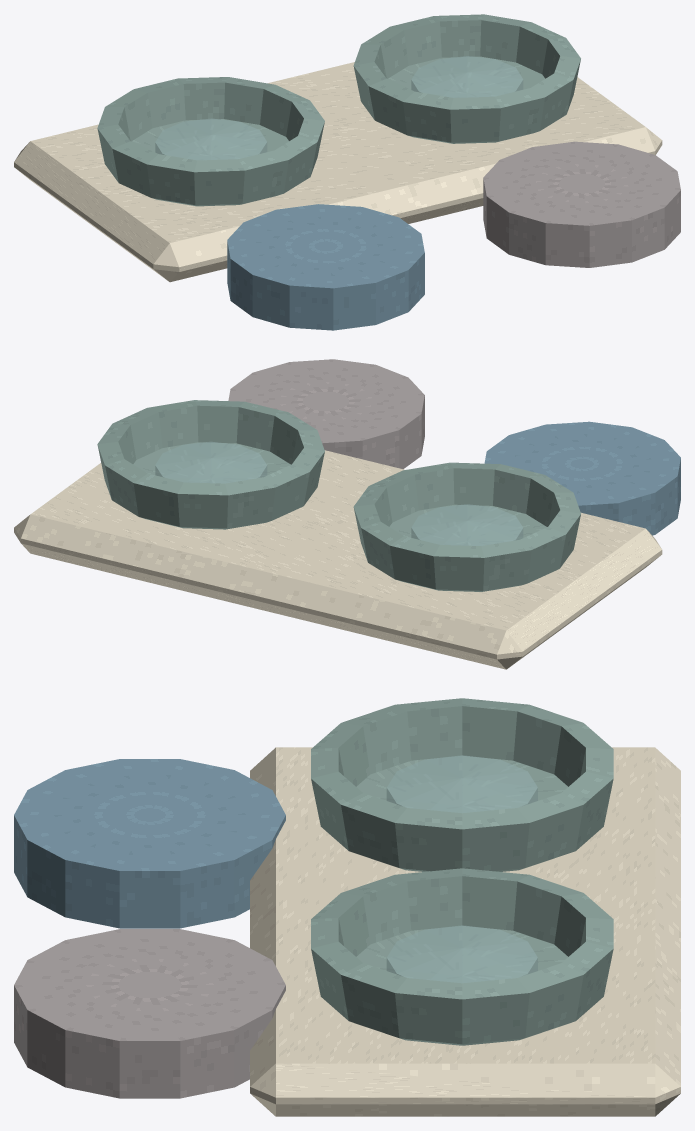
File: bifocal_transition_contacts_weekly.glb
The picture shows the model from 3 angles, top to bottom: view 1: azimuth 30°, elevation 25°; view 2: azimuth 150°, elevation 25°; view 3: azimuth 270°, elevation 25°; orthographic projection. The views are drawn at different scales.
Visible parts, largest first — view 1: block_lens compartment (×2), block_open screw lid (×2), block_hinged case bottom, block_soft contact lens (×2); view 2: block_hinged case bottom, block_lens compartment (×2), block_open screw lid (×2), block_soft contact lens (×2); view 3: block_lens compartment (×2), block_hinged case bottom, block_open screw lid (×2), block_soft contact lens (×2).
Boxes of the visible parts, left/top/right/bottom form: block_lens compartment (×2): left=97, top=14, right=580, bottom=206; block_open screw lid (×2): left=227, top=141, right=680, bottom=330; block_hinged case bottom: left=14, top=62, right=662, bottom=282; block_soft contact lens (×2): left=155, top=56, right=523, bottom=160; block_hinged case bottom: left=14, top=450, right=662, bottom=669; block_lens compartment (×2): left=97, top=400, right=580, bottom=591; block_open screw lid (×2): left=228, top=359, right=680, bottom=535; block_soft contact lens (×2): left=155, top=441, right=523, bottom=545; block_lens compartment (×2): left=311, top=698, right=613, bottom=1045; block_hinged case bottom: left=250, top=747, right=680, bottom=1116; block_open screw lid (×2): left=14, top=759, right=285, bottom=1098; block_soft contact lens (×2): left=386, top=755, right=537, bottom=983.
Bounding box in the file's own units: 0.0532 × 0.00838 × 0.0444.
2 materials, 2 textured.
